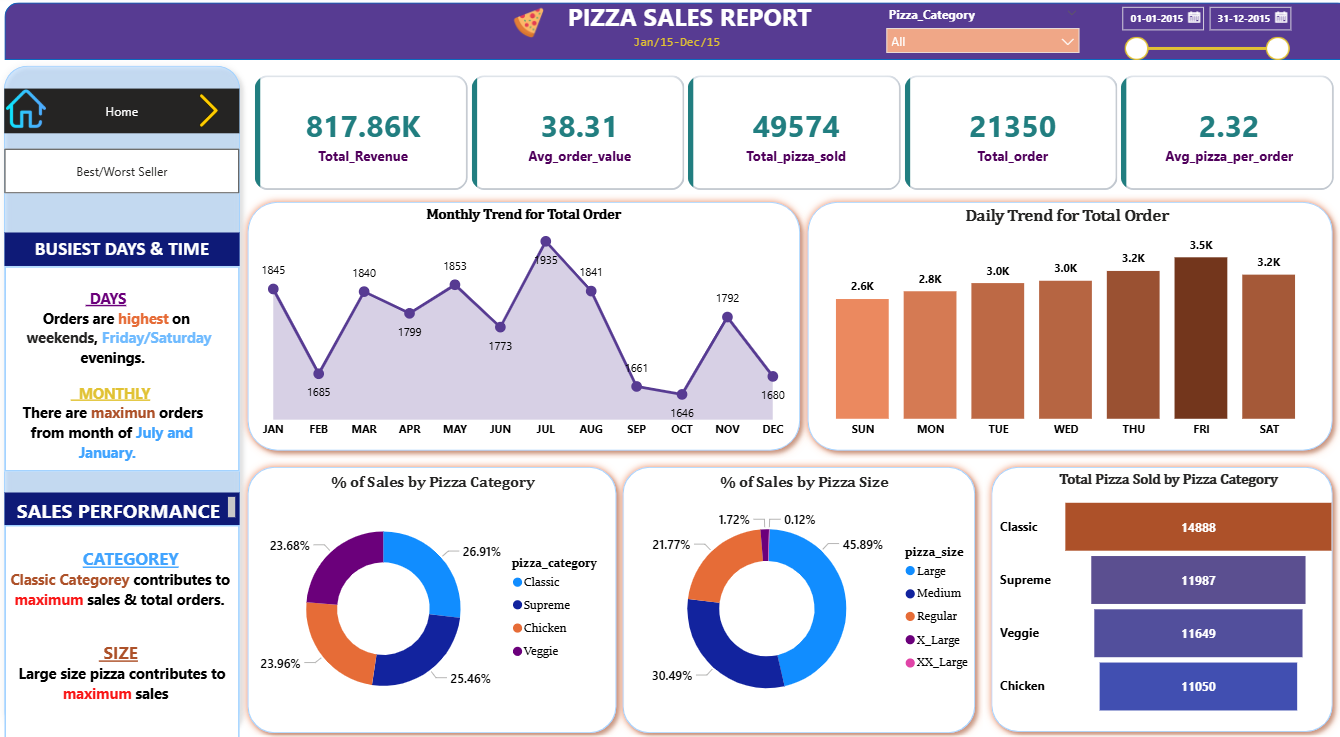

This screenshot's page, from the dashboard's own definition file:
{"tool":"powerbi","page":{"name":"Home","canvas":[1500,820],"ordinal":0},"visuals":[{"type":"cardVisual","fields":{"Data":["Measure_table.Total_Revenue","Measure_table.Avg_order_value","Measure_table.Total_pizza_sold","Measure_table.Total_order","Measure_table.Avg_pizza_per_order"]},"box":[277.5,71.4,1222.9,160.8],"z":0},{"type":"shape","box":[9.6,68.7,277.5,751.6],"z":1000},{"type":"shape","box":[19.2,8.2,1481.2,63.2],"z":2000},{"type":"textbox","box":[613.8,0,316.2,47.5],"z":3000},{"type":"textbox","box":[701.2,37.5,115,30],"z":4000},{"type":"image","box":[567.5,13.8,56.2,33.8],"z":5000},{"type":"shape","box":[893.1,218.5,594.9,291.3],"z":6000},{"type":"columnChart","title":"Daily Trend for Total Order ","fields":{"Category":["pizza_sales (1).Order_Day"],"Y":["Measure_table.Total_order"]},"box":[898.6,232.2,575.7,263.8],"z":7000},{"type":"shape","box":[277.5,218.5,625.2,291.3],"z":8000},{"type":"areaChart","title":"Monthly Trend for Total Order ","fields":{"Category":["pizza_sales (1).Order_Month"],"Y":["Measure_table.Total_order"]},"box":[289.9,232.2,599.1,263.8],"z":9000},{"type":"shape","box":[1095.1,509.8,393,309.2],"z":10000},{"type":"shape","box":[689.7,509.8,405.3,310.5],"z":11000},{"type":"shape","box":[277.5,509.8,423.2,310.5],"z":12000},{"type":"donutChart","title":"% of Sales by Pizza Category","fields":{"Category":["pizza_sales (1).pizza_category"],"Y":["Measure_table.Total_Revenue"]},"box":[289.9,523.5,399.8,281.7],"z":13000},{"type":"donutChart","title":"% of Sales by Pizza Size","fields":{"Y":["Measure_table.Total_Revenue"],"Category":["pizza_sales (1).pizza_size"]},"box":[700.7,523.5,394.3,281.7],"z":14000},{"type":"funnel","title":"Total Pizza Sold by Pizza Category","fields":{"Category":["pizza_sales (1).pizza_category"],"Y":["Measure_table.Total_pizza_sold"]},"box":[1108.8,523.5,379.2,281.7],"z":15000},{"type":"textbox","box":[19.2,261.1,258.3,37.1],"z":16000},{"type":"textbox","box":[19.2,298.2,258.3,225.3],"z":17000},{"type":"textbox","box":[19.2,546.9,258.3,35.7],"z":18000},{"type":"textbox","box":[19.2,582.6,258.3,236.3],"z":18001},{"type":"slicer","fields":{"Values":["pizza_sales (1).pizza_category"]},"box":[978.3,6.9,232.2,59.1],"z":18002},{"type":"slicer","fields":{"Values":["pizza_sales (1).order_date"]},"box":[1235.2,2.7,204.7,78.3],"z":18003},{"type":"pageNavigator","box":[19.2,169,258.3,49.5],"z":18004},{"type":"pageNavigator","box":[19.2,103.1,258.3,49.5],"z":18005},{"type":"image","box":[210.2,108.5,67.3,37.1],"z":18006},{"type":"image","box":[19.2,103.1,46.7,44],"z":18007}]}

Visuals, with their boxes in screenshot pixels (x1, y1, x2, y2), scaled from the page's 1500x820 canvas onto the 1340x737 screenshot:
cardVisual - Measure_table.Total_Revenue x Measure_table.Avg_order_value: select_region(248, 64, 1339, 209)
shape: select_region(9, 62, 256, 736)
shape: select_region(17, 7, 1339, 64)
textbox: select_region(548, 0, 831, 43)
textbox: select_region(626, 34, 729, 61)
image: select_region(507, 12, 557, 43)
shape: select_region(798, 196, 1329, 458)
"Daily Trend for Total Order " columnChart: select_region(803, 209, 1317, 446)
shape: select_region(248, 196, 806, 458)
"Monthly Trend for Total Order " areaChart: select_region(259, 209, 794, 446)
shape: select_region(978, 458, 1329, 736)
shape: select_region(616, 458, 978, 736)
shape: select_region(248, 458, 626, 736)
"% of Sales by Pizza Category" donutChart: select_region(259, 471, 616, 724)
"% of Sales by Pizza Size" donutChart: select_region(626, 471, 978, 724)
"Total Pizza Sold by Pizza Category" funnel: select_region(991, 471, 1329, 724)
textbox: select_region(17, 235, 248, 268)
textbox: select_region(17, 268, 248, 471)
textbox: select_region(17, 492, 248, 524)
textbox: select_region(17, 524, 248, 736)
slicer - pizza_sales (1).pizza_category: select_region(874, 6, 1081, 59)
slicer - pizza_sales (1).order_date: select_region(1103, 2, 1286, 73)
pageNavigator: select_region(17, 152, 248, 196)
pageNavigator: select_region(17, 93, 248, 137)
image: select_region(188, 98, 248, 131)
image: select_region(17, 93, 59, 132)
